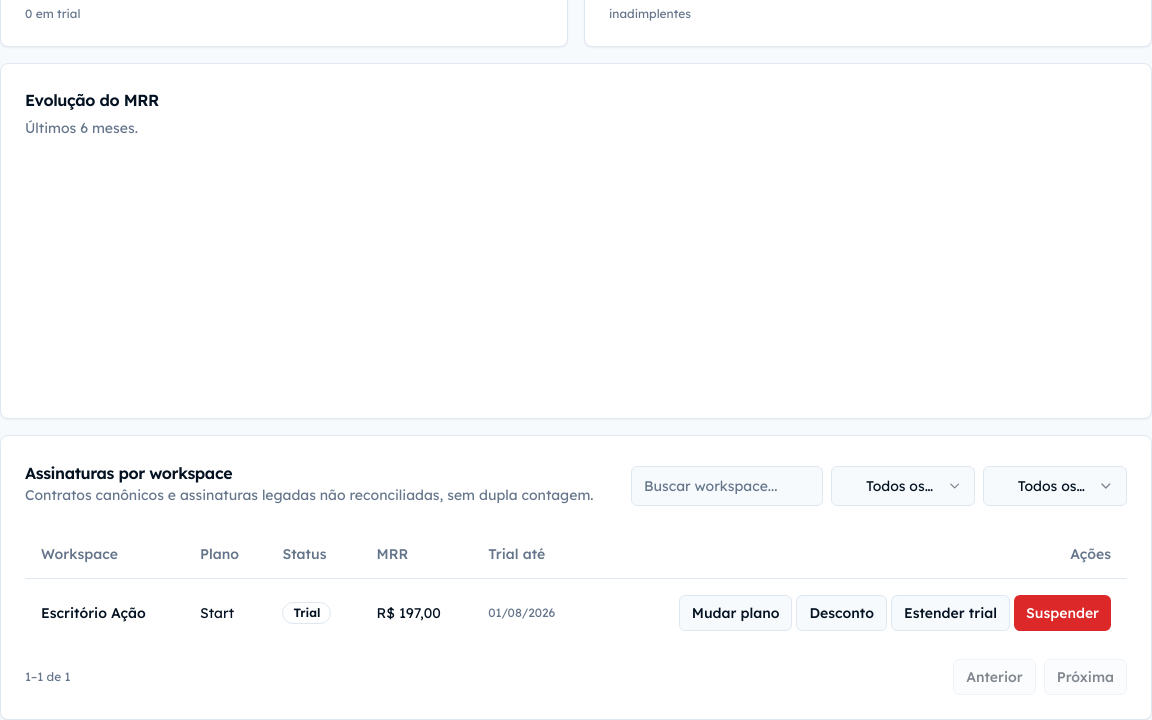
Test case: PlatformBillingPanel › opens the change-plan dialog and requires a motivo before confirming
(page scrolled)
Expected: the button "Escritório Ação" is shown, [41, 602, 146, 622]
Click the button "Mudar plano": (736,612) [679, 594, 792, 630]
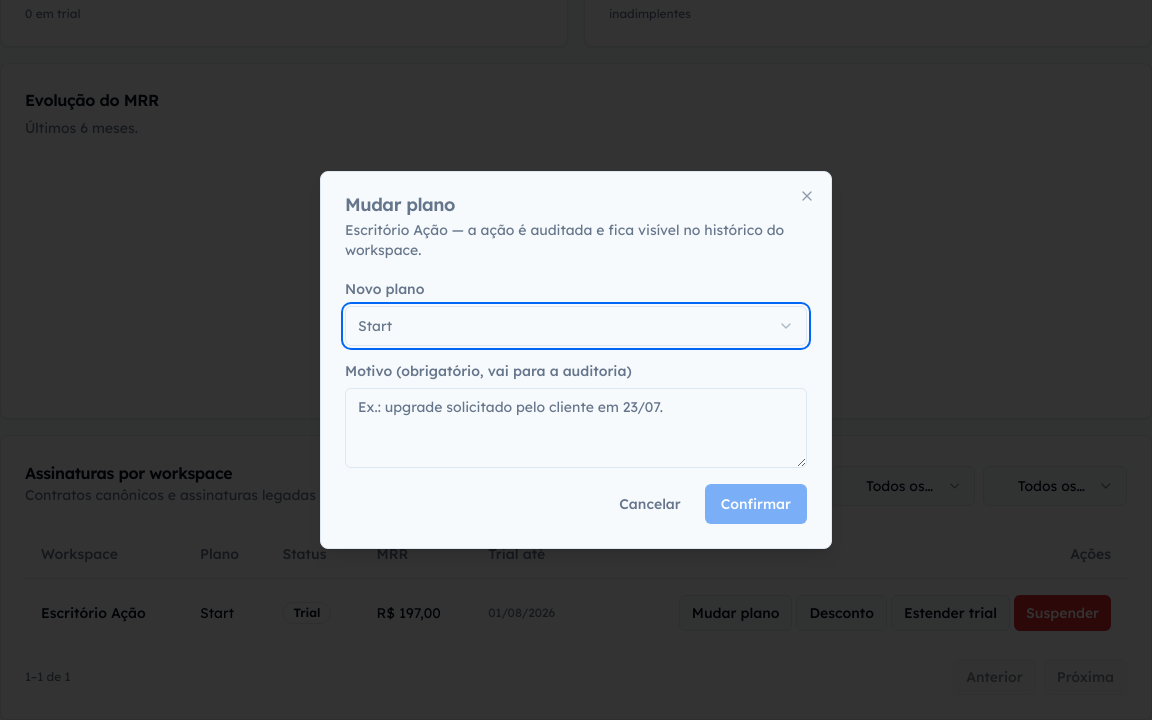
Now the button "Confirmar" is disabled, box [705, 484, 807, 524]
